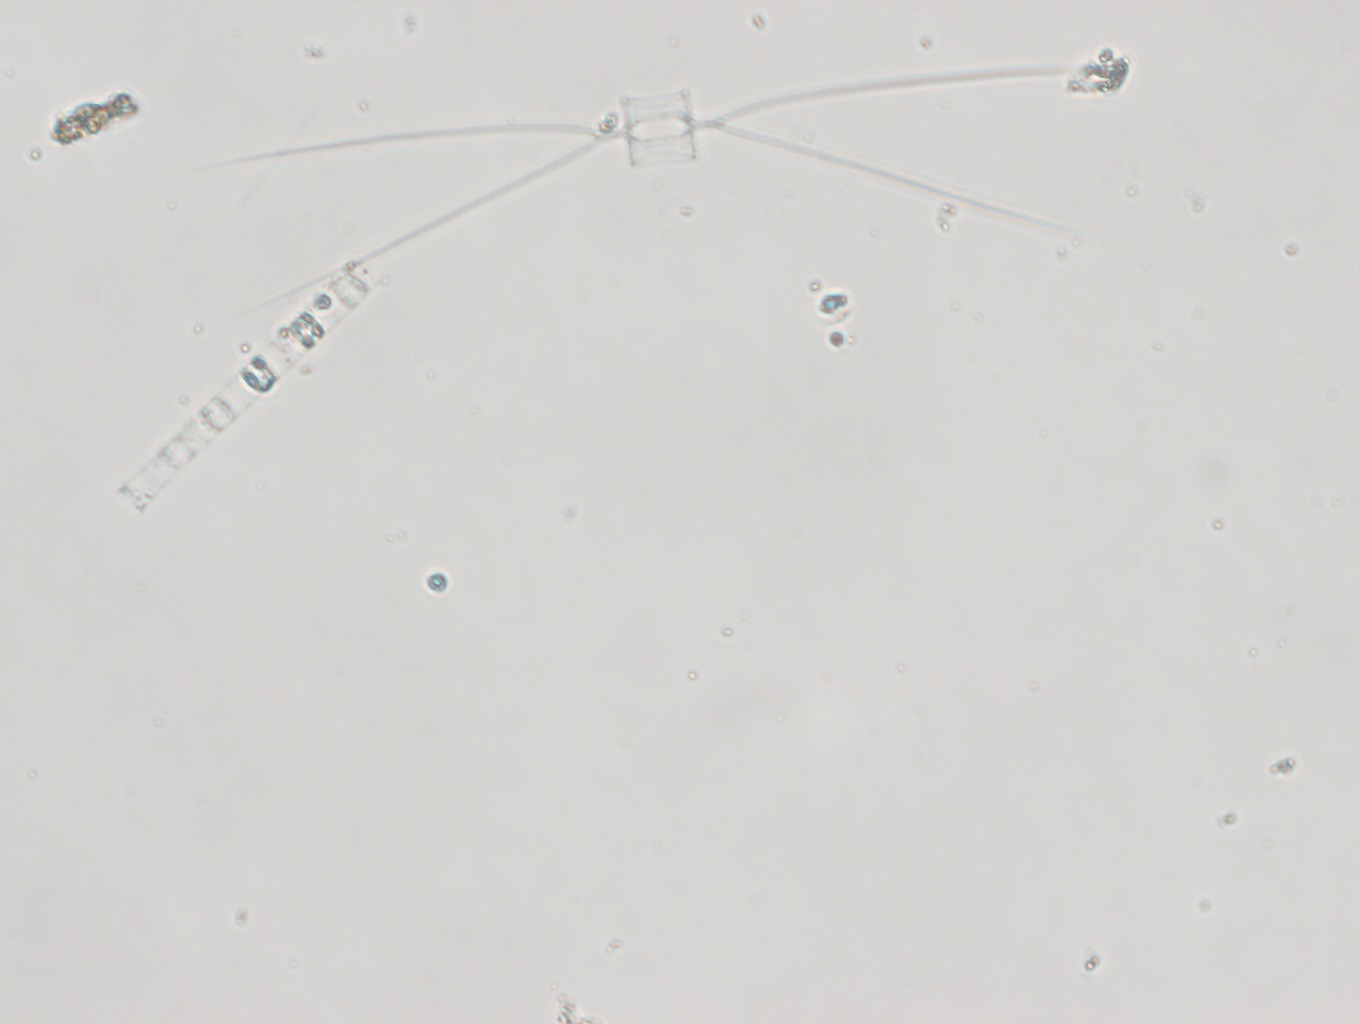chaetoceros: (225, 52, 1101, 312)
skeletonema: (114, 257, 382, 514)
